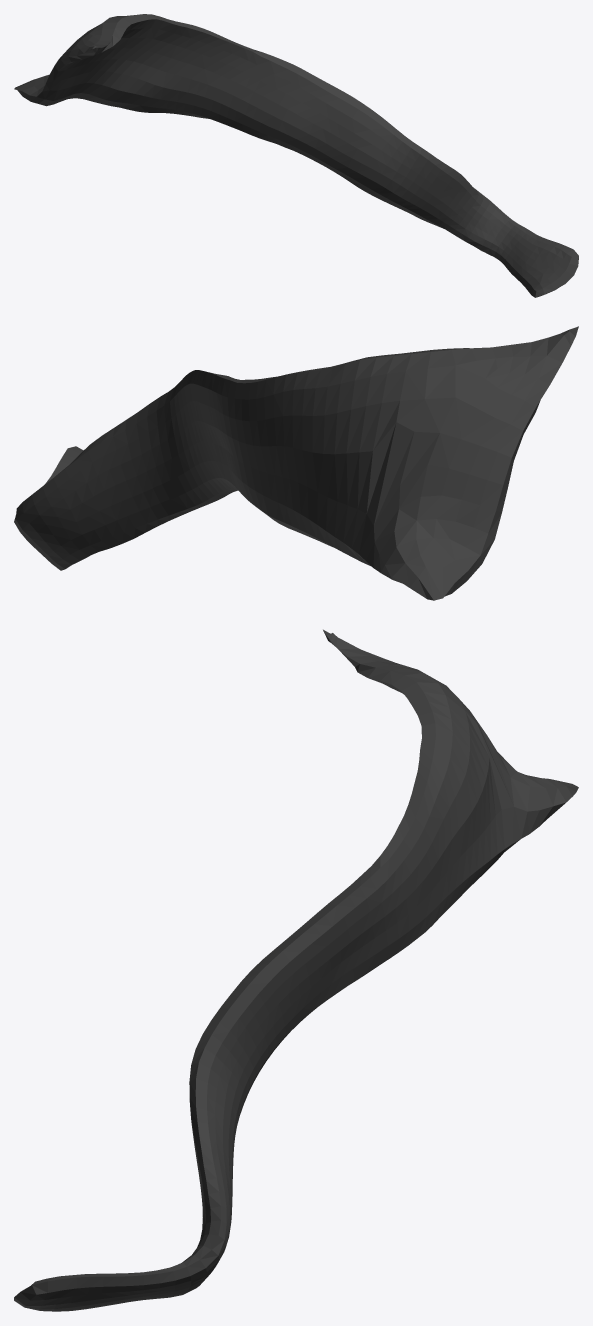
The model's file is cervicoauric_med.glb.
The picture shows the model from 3 angles, top to bottom: view 1: azimuth 30°, elevation 25°; view 2: azimuth 150°, elevation 25°; view 3: azimuth 270°, elevation 25°; orthographic projection. The views are drawn at different scales.
Visible parts, largest first — view 1: cervicoauric_med; view 2: cervicoauric_med; view 3: cervicoauric_med.
Part boxes in pixels (x1=…): cervicoauric_med: x1=14, y1=14, x2=578, y2=297; cervicoauric_med: x1=14, y1=326, x2=578, y2=600; cervicoauric_med: x1=14, y1=629, x2=578, y2=1311.
Bounding box in the file's own units: 0.8584 × 0.562 × 0.6935.
1 material, 1 textured.
